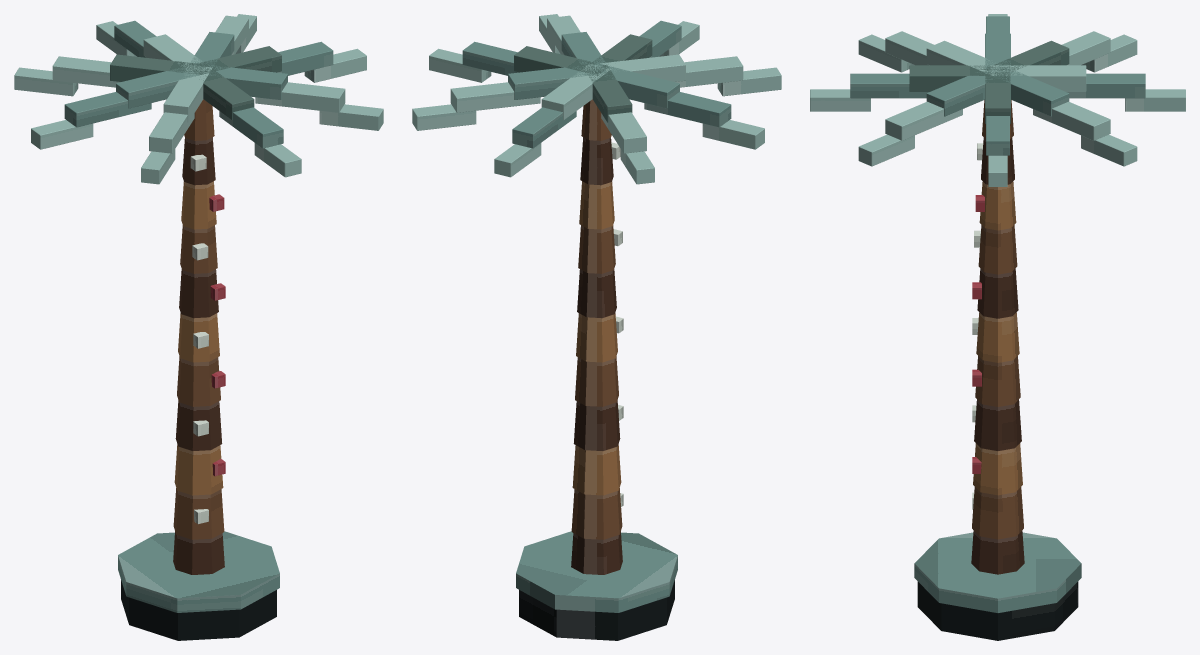
Rendered from palm_tree.glb.
The picture shows the model from 3 angles, left to right: view 1: azimuth 30°, elevation 25°; view 2: azimuth 150°, elevation 25°; view 3: azimuth 270°, elevation 25°; orthographic projection.
Visible parts, largest first — view 1: PlanterRim, PalmPlanter, TrunkSegment_2, TrunkSegment_3, TrunkSegment_1, TrunkSegment_4, TrunkSegment_5, FrondInner_5, FrondMiddle_8, FrondMiddle_5, TrunkSegment_7, TrunkSegment_6 (+24 smaller); view 2: PlanterRim, PalmPlanter, TrunkSegment_2, TrunkSegment_3, TrunkSegment_4, TrunkSegment_5, TrunkSegment_1, TrunkSegment_6, FrondMiddle_2, FrondMiddle_5, TrunkSegment_7, FrondInner_5 (+24 smaller); view 3: PlanterRim, PalmPlanter, TrunkSegment_2, TrunkSegment_3, TrunkSegment_4, TrunkSegment_5, TrunkSegment_1, TrunkSegment_6, FrondInner_2, TrunkSegment_7, FrondMiddle_3, FrondMiddle_7 (+22 smaller).
Part boxes in pixels (bbox=[...]): PlanterRim: bbox=[118, 531, 279, 612]; PalmPlanter: bbox=[121, 580, 276, 640]; TrunkSegment_2: bbox=[173, 488, 224, 539]; TrunkSegment_3: bbox=[174, 444, 223, 495]; TrunkSegment_1: bbox=[173, 531, 224, 574]; TrunkSegment_4: bbox=[175, 400, 222, 450]; TrunkSegment_5: bbox=[177, 356, 220, 406]; FrondInner_5: bbox=[116, 63, 207, 108]; FrondMiddle_8: bbox=[255, 82, 345, 112]; FrondMiddle_5: bbox=[64, 92, 151, 127]; TrunkSegment_7: bbox=[179, 269, 218, 318]; TrunkSegment_6: bbox=[178, 313, 219, 362]; PlanterRim: bbox=[516, 531, 677, 612]; PalmPlanter: bbox=[519, 580, 674, 640]; TrunkSegment_2: bbox=[571, 488, 622, 539]; TrunkSegment_3: bbox=[572, 444, 621, 495]; TrunkSegment_4: bbox=[573, 400, 620, 450]; TrunkSegment_5: bbox=[575, 356, 618, 406]; TrunkSegment_1: bbox=[571, 531, 622, 574]; TrunkSegment_6: bbox=[576, 313, 617, 362]; FrondMiddle_2: bbox=[450, 82, 540, 112]; FrondMiddle_5: bbox=[644, 92, 731, 127]; TrunkSegment_7: bbox=[577, 269, 616, 318]; FrondInner_5: bbox=[592, 63, 679, 108]; PlanterRim: bbox=[914, 532, 1081, 612]; PalmPlanter: bbox=[917, 581, 1078, 640]; TrunkSegment_2: bbox=[972, 487, 1023, 539]; TrunkSegment_3: bbox=[973, 443, 1022, 495]; TrunkSegment_4: bbox=[974, 399, 1021, 450]; TrunkSegment_5: bbox=[975, 356, 1020, 406]; TrunkSegment_1: bbox=[971, 531, 1024, 574]; TrunkSegment_6: bbox=[976, 312, 1019, 362]; FrondInner_2: bbox=[985, 64, 1069, 116]; TrunkSegment_7: bbox=[977, 268, 1018, 318]; FrondMiddle_3: bbox=[1066, 73, 1145, 98]; FrondMiddle_7: bbox=[850, 73, 929, 98].
Size of the model in its own units: 2.34 by 3.69 by 2.34.
Materials: 1 (1 with a texture image).
